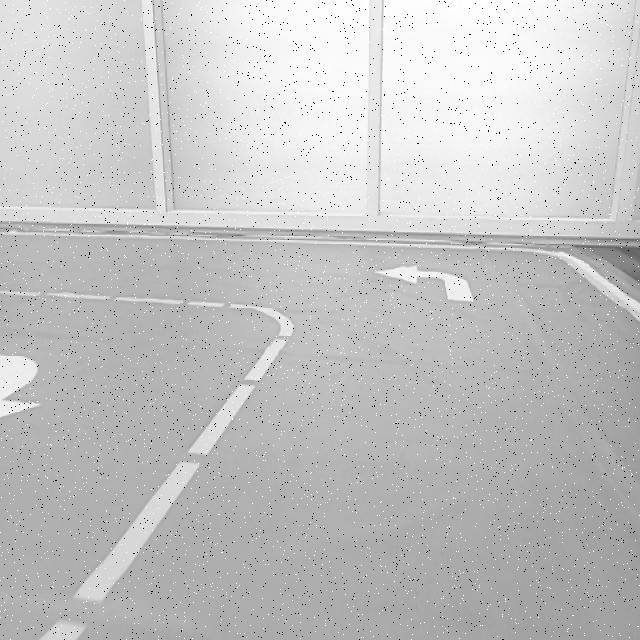left_lane: (44, 330, 293, 637)
right_lane: (568, 264, 640, 325)
